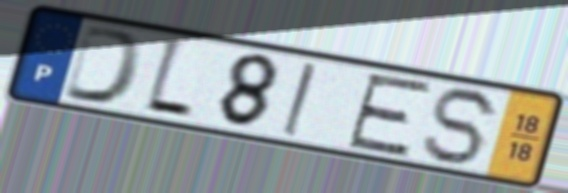8: (212, 51, 285, 131)
D: (59, 21, 149, 108)
E: (342, 71, 437, 159)
I: (278, 59, 320, 140)
L: (140, 33, 197, 123)
S: (418, 85, 506, 168)
